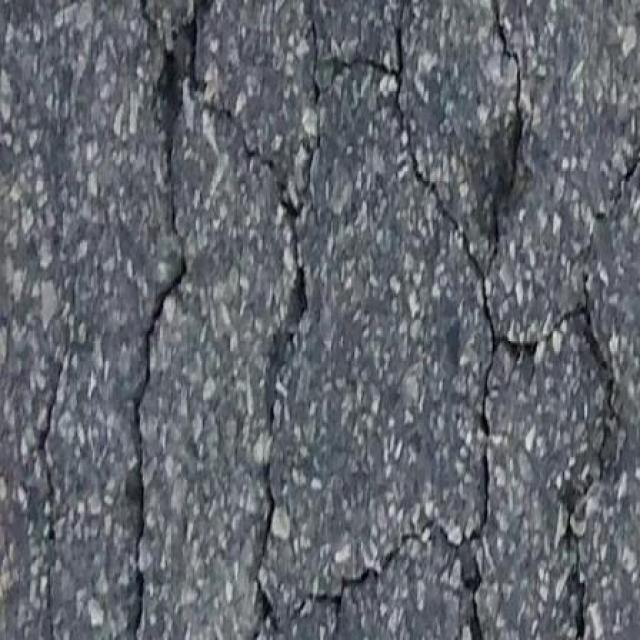Crack: (218, 0, 421, 640), (406, 0, 530, 288), (132, 218, 182, 639), (141, 0, 208, 193), (561, 388, 604, 639), (484, 316, 542, 497), (437, 534, 478, 639), (564, 310, 600, 368), (51, 561, 69, 639), (48, 374, 61, 478), (398, 0, 409, 77), (478, 502, 484, 528)
